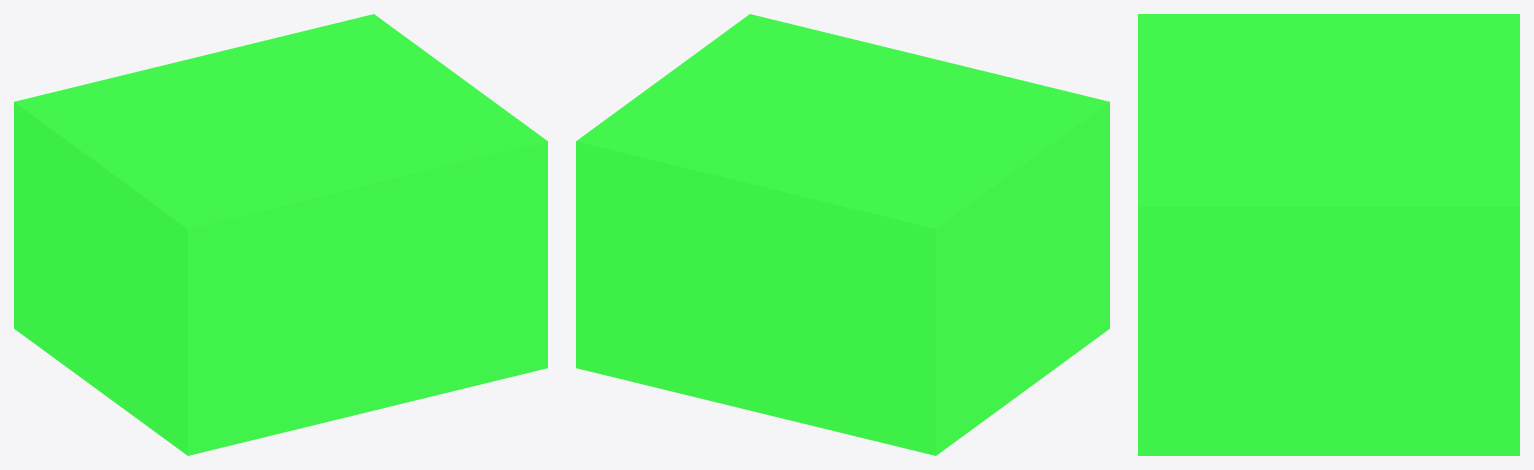
File: Cube_Emissive.glb
3 renders of one model, left to right at view 1: azimuth 30°, elevation 25°; view 2: azimuth 150°, elevation 25°; view 3: azimuth 270°, elevation 25°, orthographic. The views are drawn at different scales.
Parts seen in each view (by area): view 1: Cube_Emissive; view 2: Cube_Emissive; view 3: Cube_Emissive.
Part boxes in pixels (x1,y1,x2,y2): Cube_Emissive: [14, 14, 547, 455]; Cube_Emissive: [576, 14, 1109, 455]; Cube_Emissive: [1138, 14, 1519, 455].
Bounding box in the file's own units: 0.5638 × 0.3395 × 0.4718.
